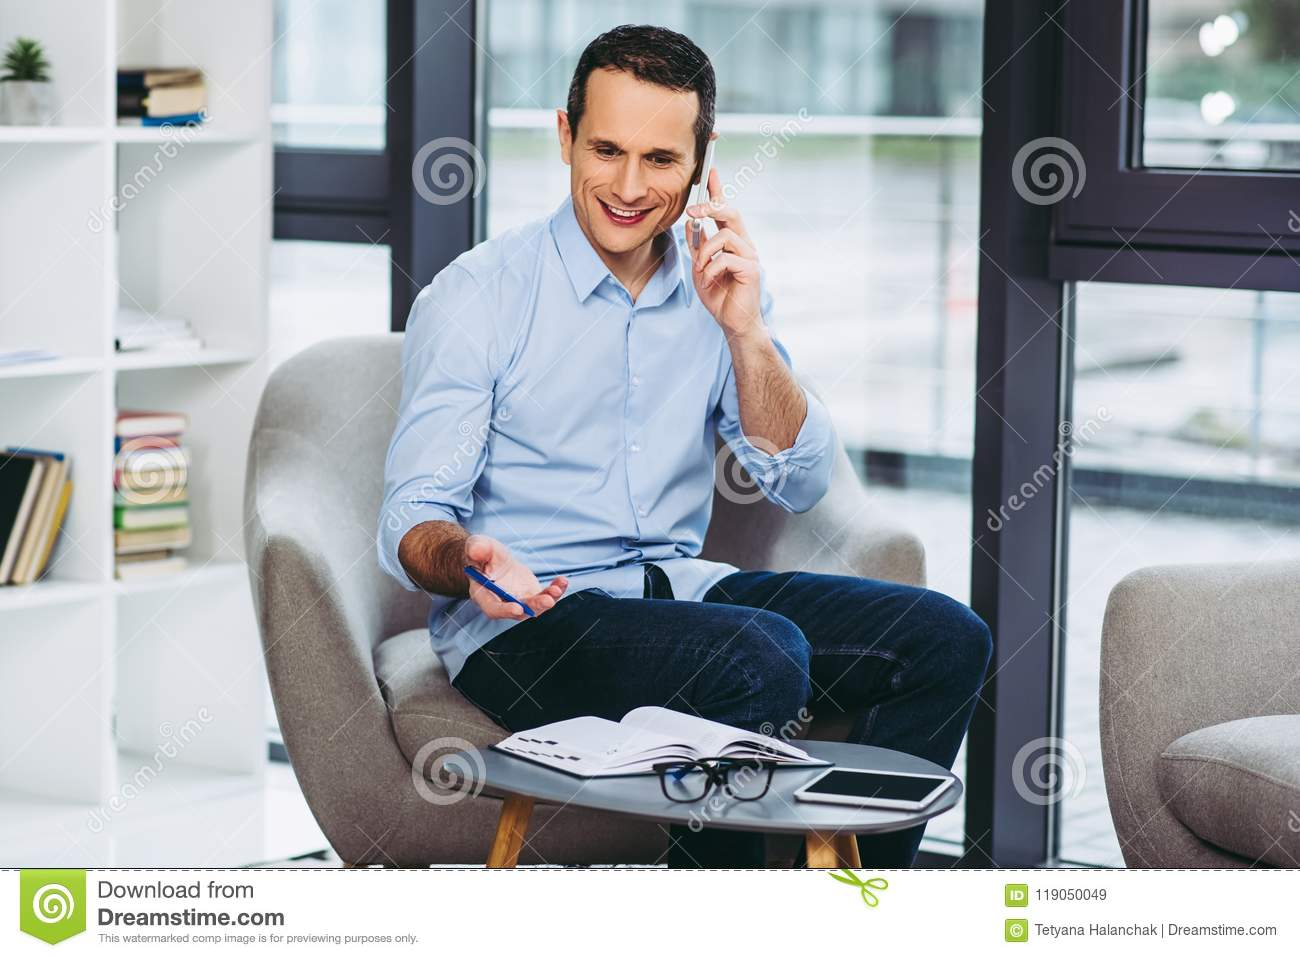phone: (688, 133, 717, 256)
talk: (576, 128, 765, 342)
